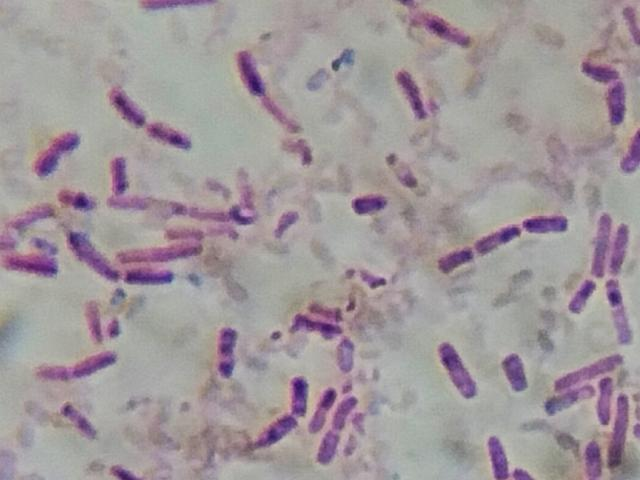E. coli: (578, 56, 626, 125), (431, 339, 480, 405), (240, 413, 304, 456), (411, 12, 473, 56), (36, 352, 124, 382), (33, 123, 80, 175), (398, 63, 434, 130), (322, 393, 352, 467), (558, 353, 630, 383), (479, 217, 522, 262), (609, 282, 640, 342), (118, 242, 198, 265), (6, 247, 66, 277), (81, 296, 119, 343), (238, 50, 271, 104), (73, 229, 111, 275), (58, 399, 100, 440), (386, 149, 421, 198), (616, 118, 640, 186), (612, 393, 634, 467), (279, 205, 318, 246), (0, 200, 55, 229), (586, 216, 615, 269), (213, 325, 241, 379), (289, 310, 331, 343), (111, 85, 144, 126), (572, 275, 604, 315), (526, 206, 567, 237), (153, 119, 192, 151), (442, 242, 472, 283), (108, 145, 134, 190), (352, 195, 397, 221), (546, 387, 594, 411), (501, 356, 530, 395), (581, 433, 605, 480), (613, 220, 633, 274), (313, 382, 334, 433), (488, 432, 511, 478), (286, 370, 309, 414), (596, 375, 615, 422), (59, 183, 94, 208), (335, 336, 360, 371), (111, 456, 147, 480), (126, 270, 178, 283)
